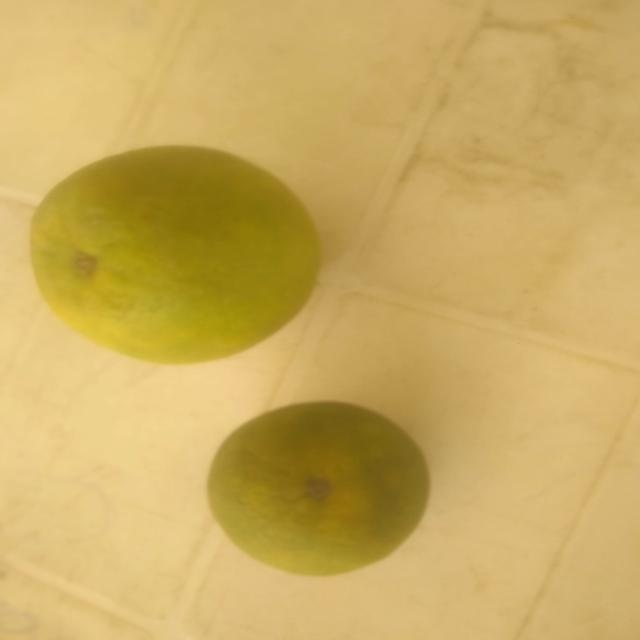agrume: (196, 406, 439, 582)
